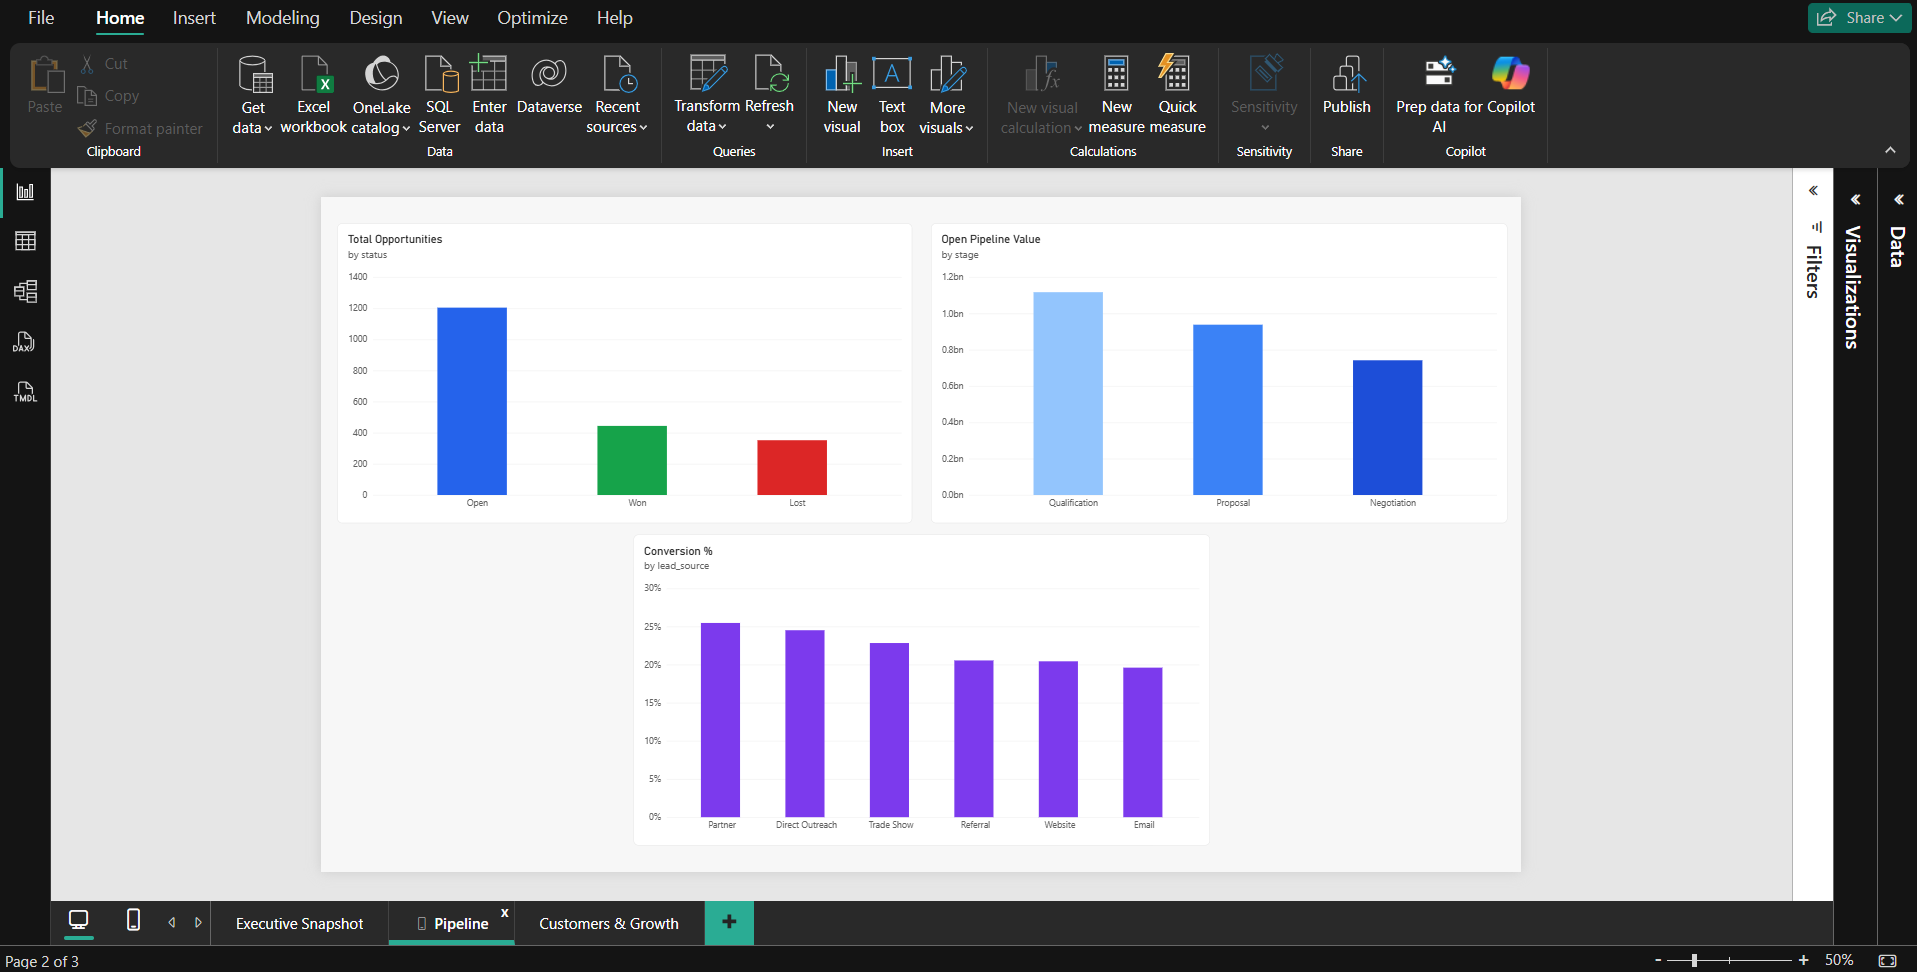

The page's visual inventory and layout, read from the dashboard file:
{"tool":"powerbi","page":{"name":"Pipeline","canvas":[1920,1080],"ordinal":1},"visuals":[{"type":"clusteredColumnChart","fields":{"Category":["fact_opportunities.status"],"Y":["fact_opportunities.Total Opportunities"]},"box":[25,42.5,920,480],"z":0},{"type":"clusteredColumnChart","fields":{"Category":["fact_opportunities.stage"],"Y":["fact_opportunities.Open Pipeline Value"]},"box":[975,42.5,922.5,480],"z":1000},{"type":"clusteredColumnChart","fields":{"Category":["fact_opportunities.lead_source"],"Y":["fact_opportunities.Conversion %"]},"box":[500,540,922.5,497.5],"z":2000}]}

Visuals, with their boxes on the page's 1920x1080 design canvas (x1, y1, x2, y2). These are canvas units, not pixel positions in the 1917x972 screenshot, which may show the page scaled, cropped or inside an application window:
clusteredColumnChart - fact_opportunities.status x fact_opportunities.Total Opportunities: left=25, top=42, right=945, bottom=522
clusteredColumnChart - fact_opportunities.stage x fact_opportunities.Open Pipeline Value: left=975, top=42, right=1898, bottom=522
clusteredColumnChart - fact_opportunities.lead_source x fact_opportunities.Conversion %: left=500, top=540, right=1422, bottom=1038
